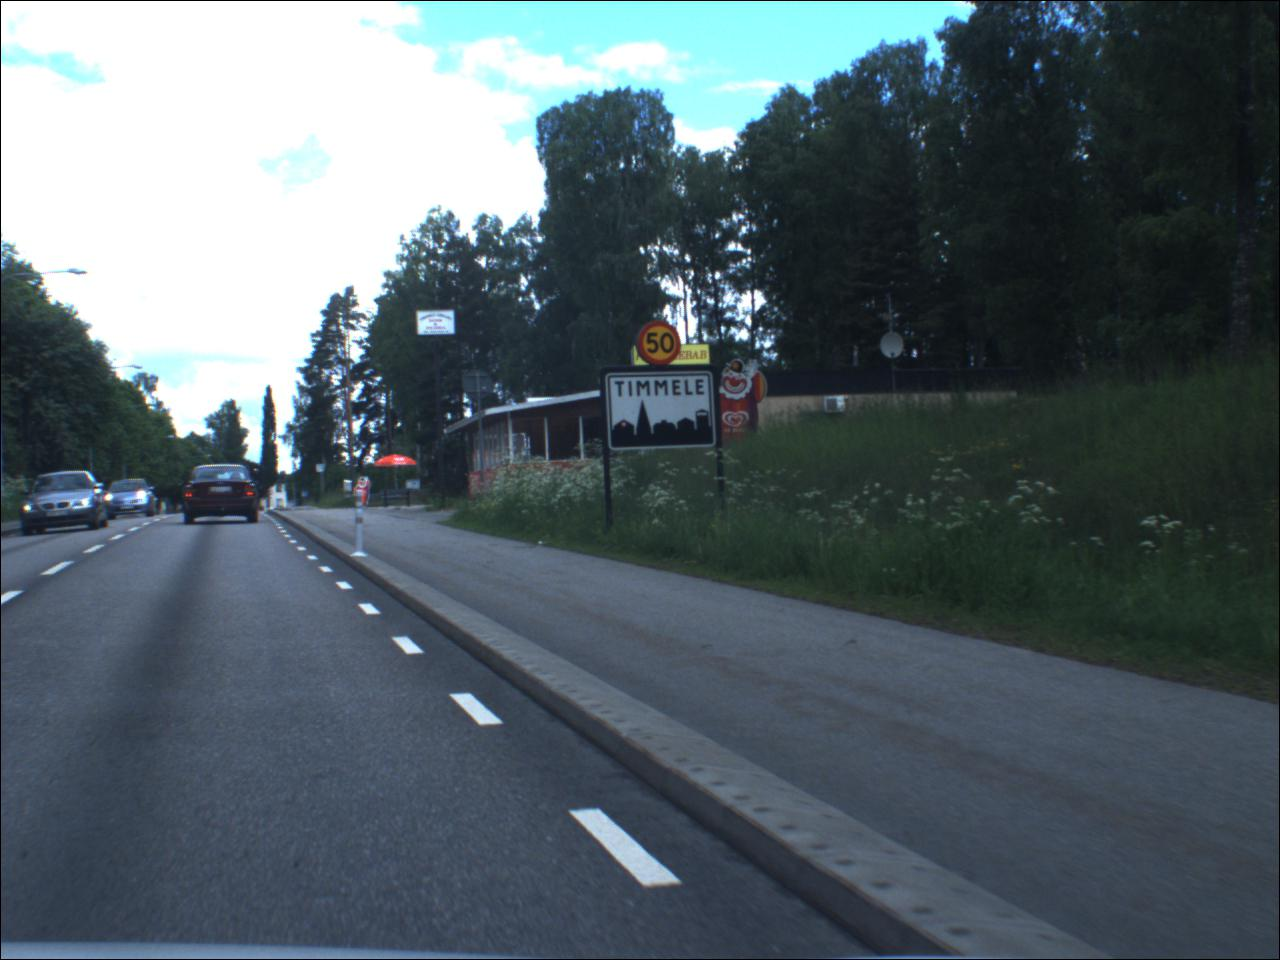50_SIGN: (640, 320, 686, 366)
